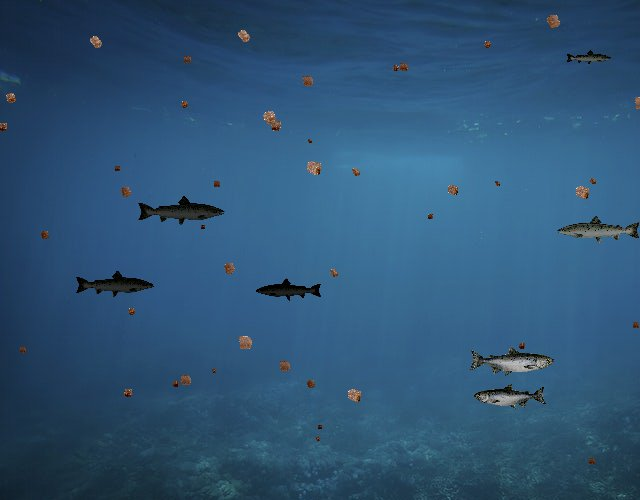Fish: (136, 194, 226, 227), (468, 346, 554, 377), (556, 214, 640, 245), (74, 270, 155, 299), (474, 383, 547, 410), (256, 277, 324, 302), (565, 50, 612, 67)
Pellet: (0, 87, 22, 109), (346, 162, 365, 181), (394, 58, 412, 76), (514, 339, 528, 353), (424, 210, 437, 223), (111, 163, 123, 175), (208, 366, 218, 376)
